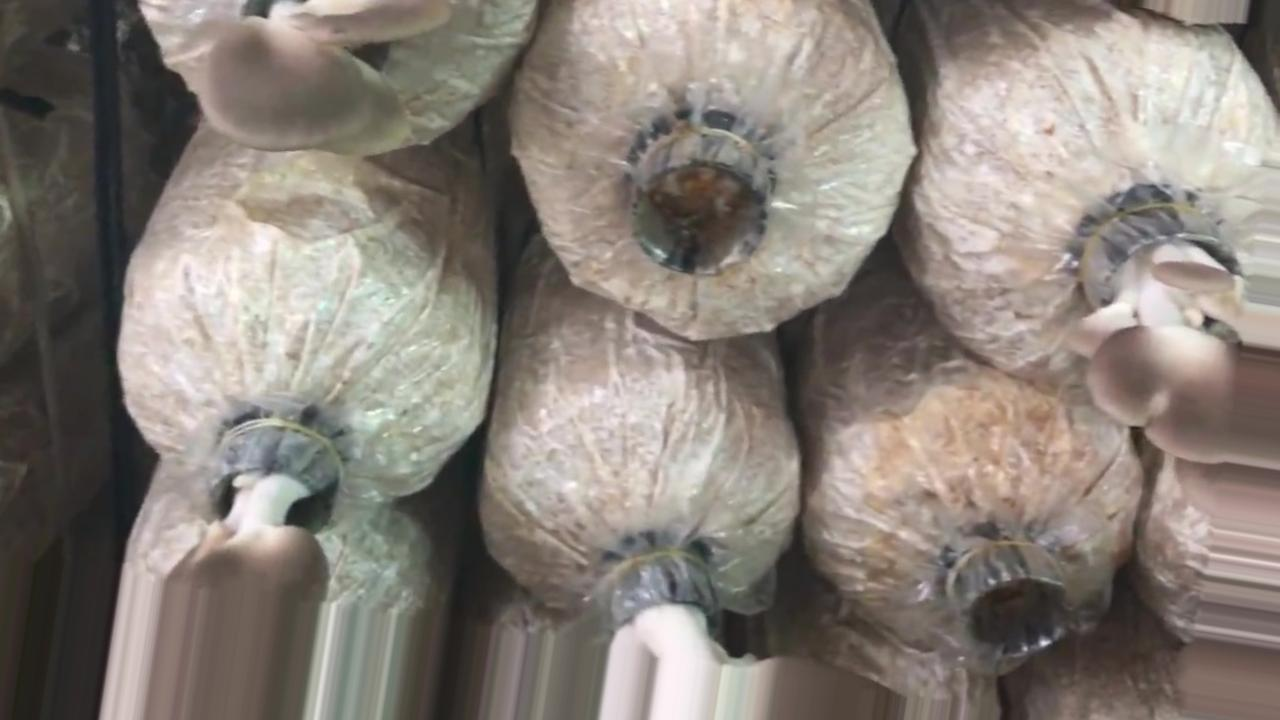nam: (139, 417, 342, 718), (1091, 203, 1280, 524), (200, 2, 455, 155)
